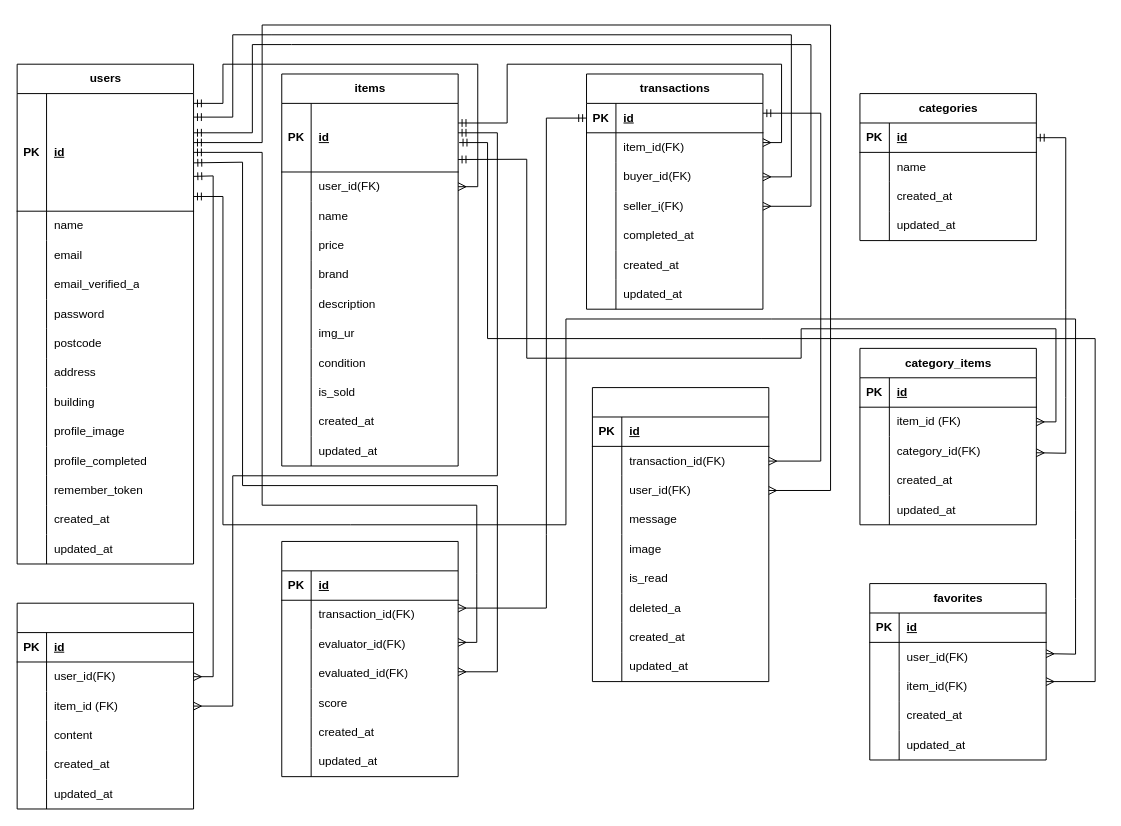
This 1121x826 diagram has some shape labels left out. Here are the shapes that lost their labels. From the top down, the box of each, then its label:
(591, 387, 769, 682): messages
(281, 540, 458, 777): evaluations
(16, 602, 194, 809): comments
